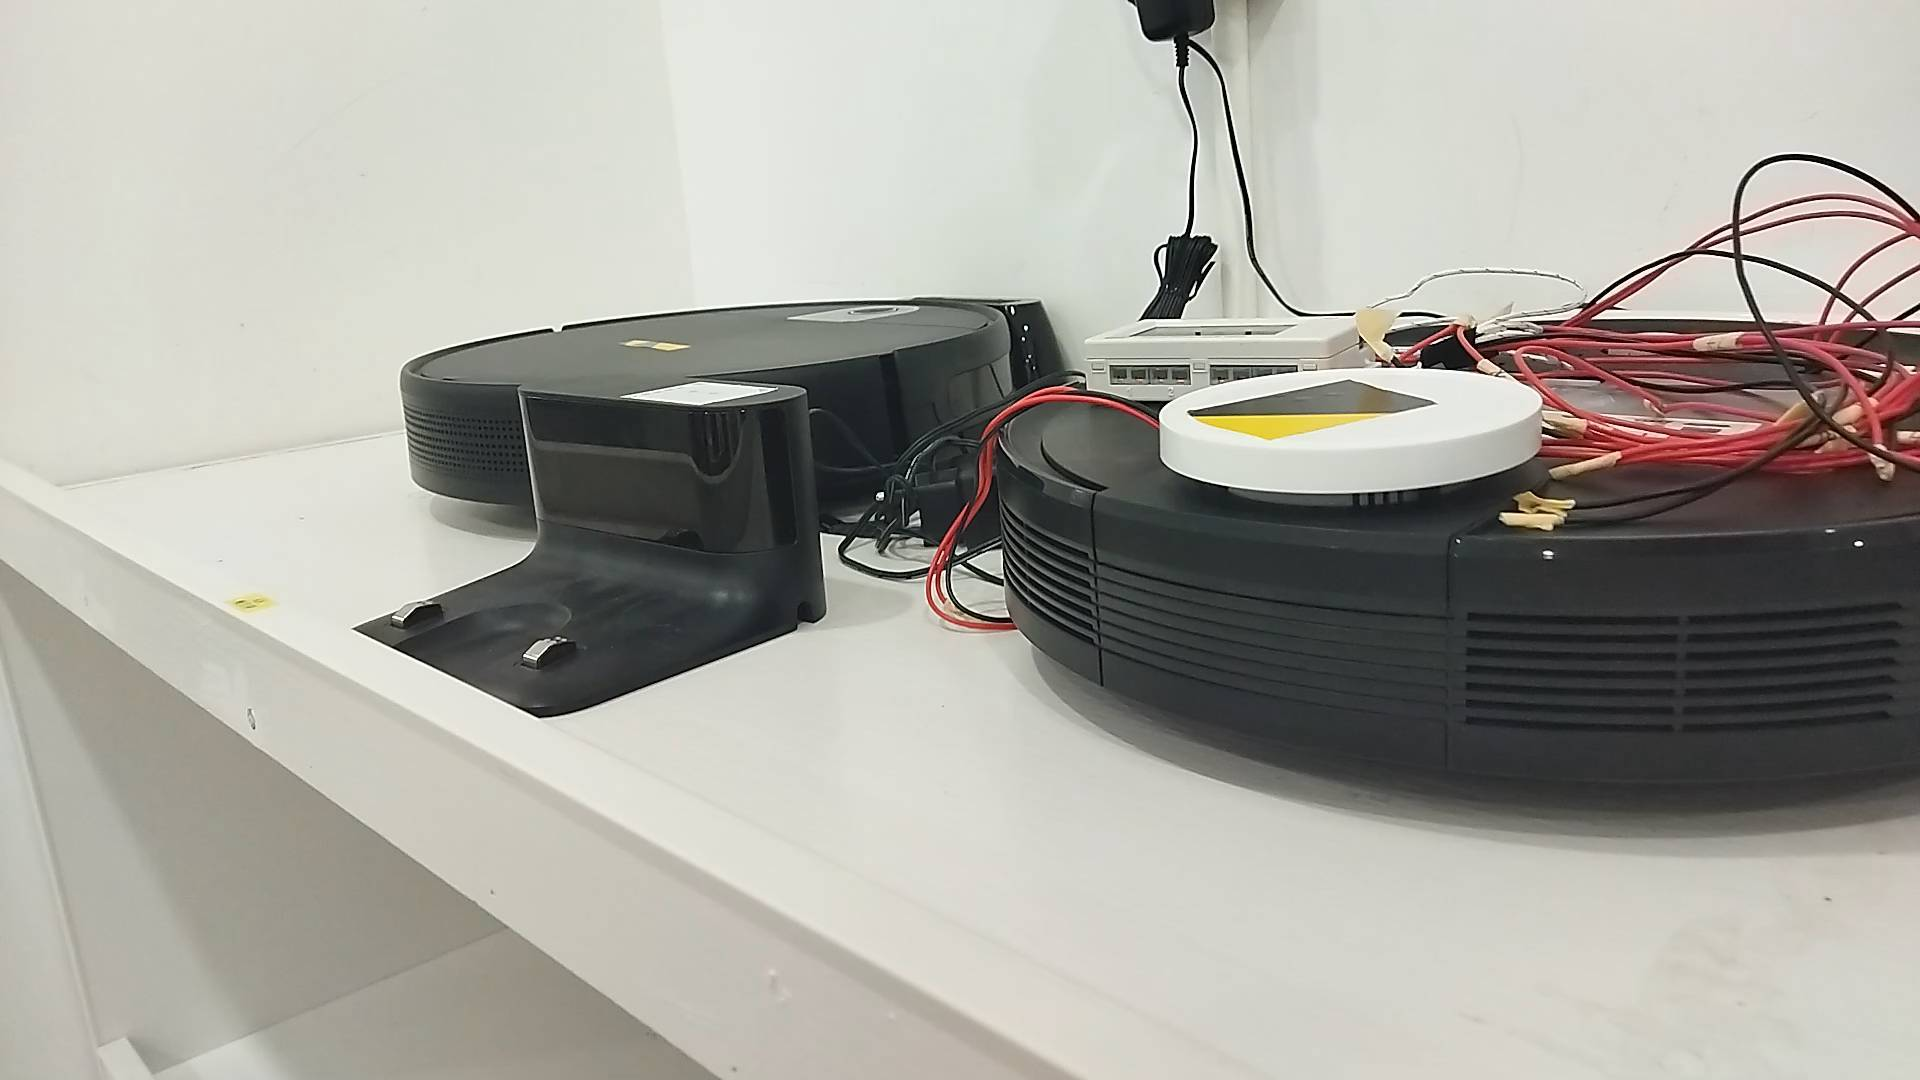recharge seat: (348, 376, 831, 716)
